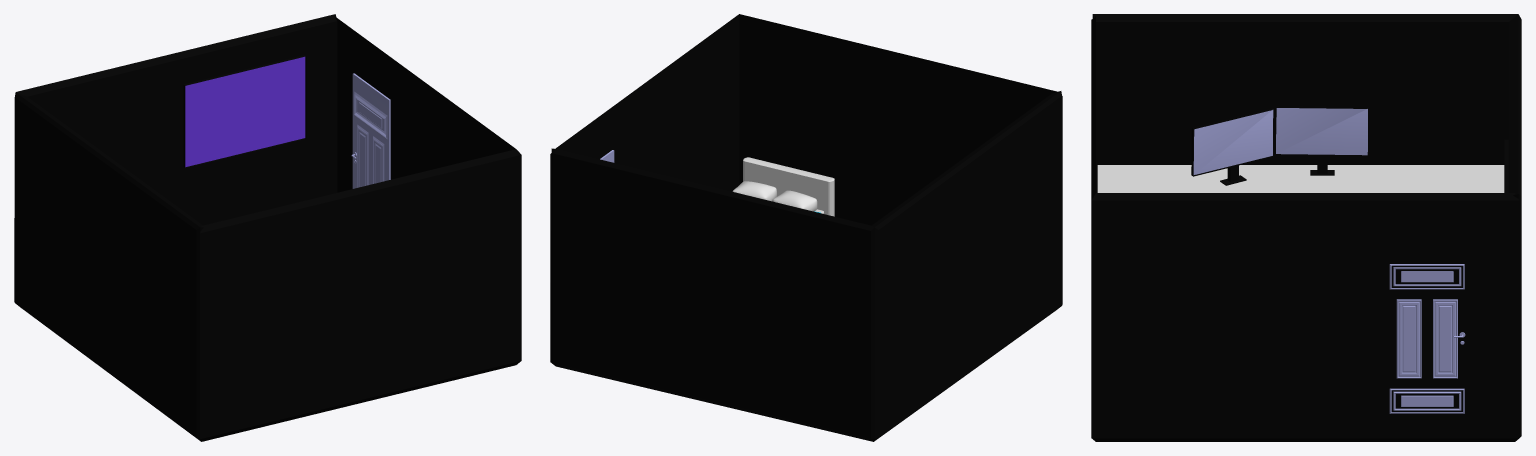
Rendered from rommkahrač.fbx.
3 views of the same model, side by side, from view 1: azimuth 30°, elevation 25°; view 2: azimuth 150°, elevation 25°; view 3: azimuth 270°, elevation 25° (orthographic). The views are drawn at different scales.
Visible parts, largest first — view 1: Plane, Plane.002, Door.004; view 2: Plane, Cube.006, Cube.010; view 3: Plane, Cube.001, Door.004, Cube.002, Cube.004.
Boxes of the visible parts, x1,y1,x2,y2 form: Plane: (14, 14, 521, 441); Plane.002: (183, 55, 306, 168); Door.004: (351, 73, 390, 188); Plane: (550, 14, 1062, 441); Cube.006: (743, 157, 834, 216); Cube.010: (732, 181, 817, 211); Plane: (1091, 14, 1521, 441); Cube.001: (1097, 165, 1504, 192); Door.004: (1389, 264, 1465, 413); Cube.002: (1275, 106, 1369, 156); Cube.004: (1191, 108, 1274, 176).
Size of the model in its own units: 831 by 525 by 821.
